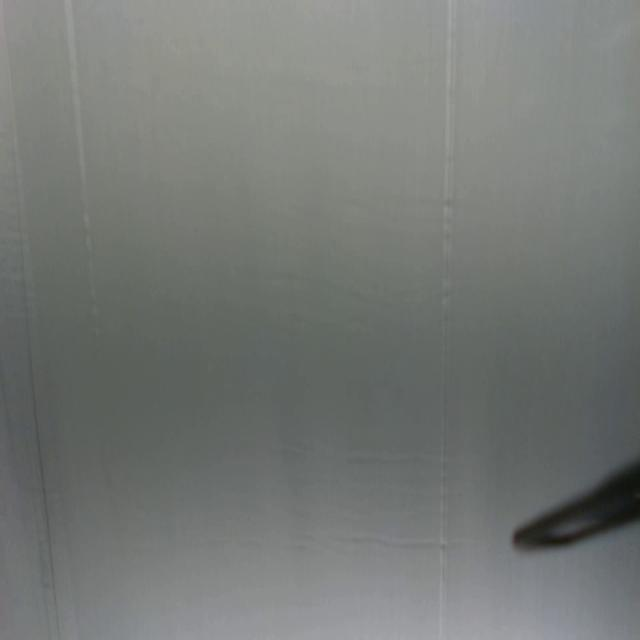crease: (5, 40, 63, 639), (437, 0, 460, 639), (67, 1, 99, 338)
